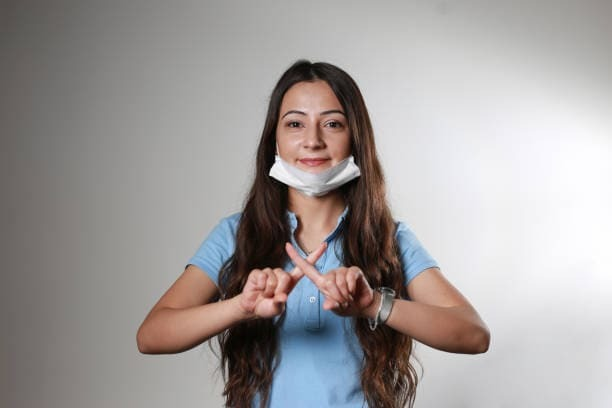with_incorrect_mask: (274, 83, 353, 197)
